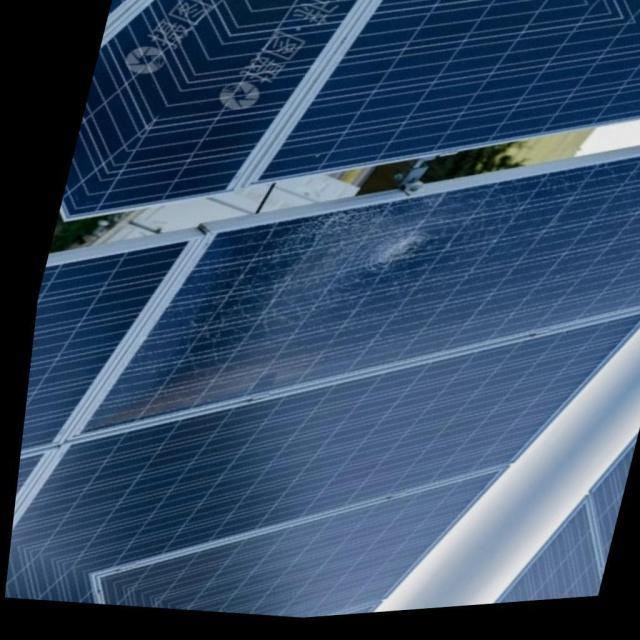cracked: (86, 160, 636, 436)
